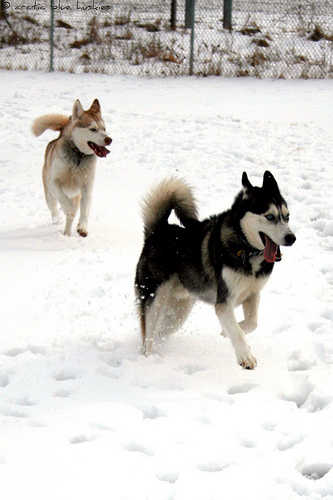dog: (130, 169, 300, 370), (31, 100, 115, 241)
